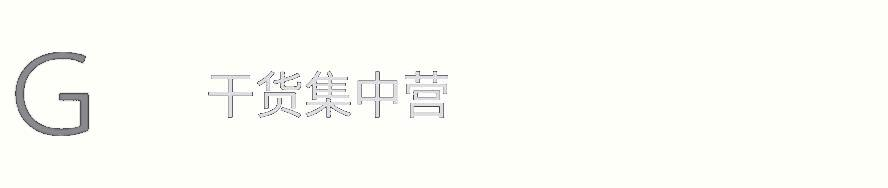CheckedTextView: (1, 1, 887, 187)
